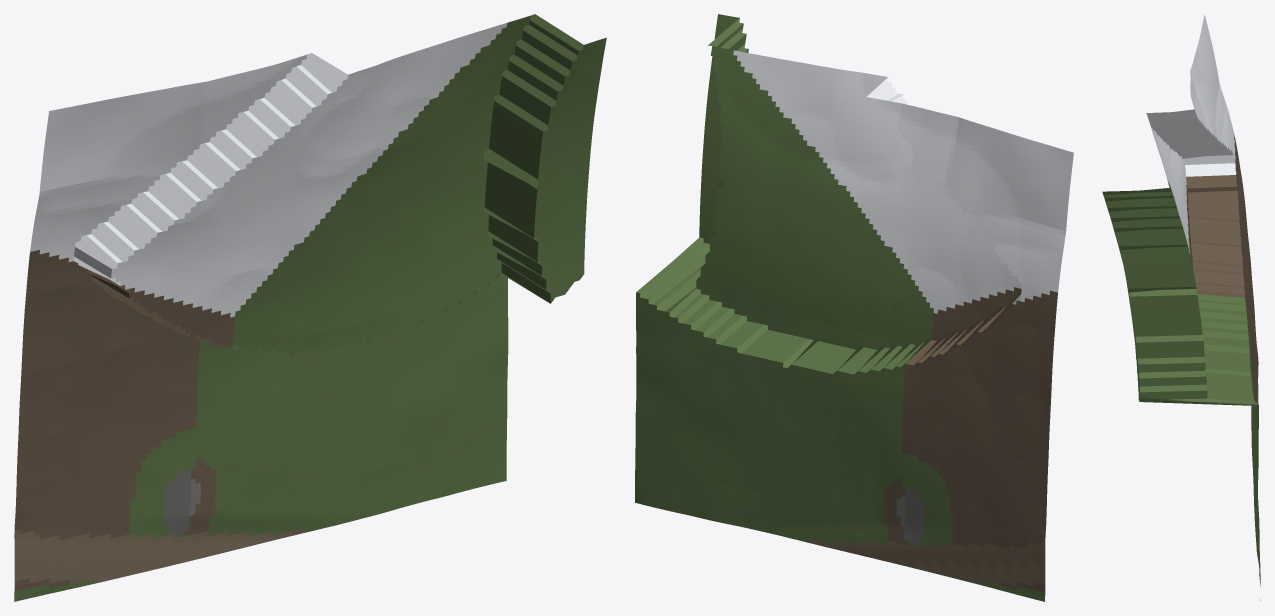
The model's file is SARM_SAR_Terrain_02_04.glb.
The picture shows the model from 3 angles, left to right: view 1: azimuth 30°, elevation 25°; view 2: azimuth 150°, elevation 25°; view 3: azimuth 270°, elevation 25°; orthographic projection. The views are drawn at different scales.
Visible parts, largest first — view 1: SAR_Terrain_02_04.001; view 2: SAR_Terrain_02_04.001; view 3: SAR_Terrain_02_04.001.
Part boxes in pixels (box(x1,y1,x2,y2)): SAR_Terrain_02_04.001: box(14, 14, 606, 601); SAR_Terrain_02_04.001: box(635, 14, 1073, 601); SAR_Terrain_02_04.001: box(1102, 15, 1260, 600).
Bounding box in the file's own units: 50 × 50 × 17.92.
